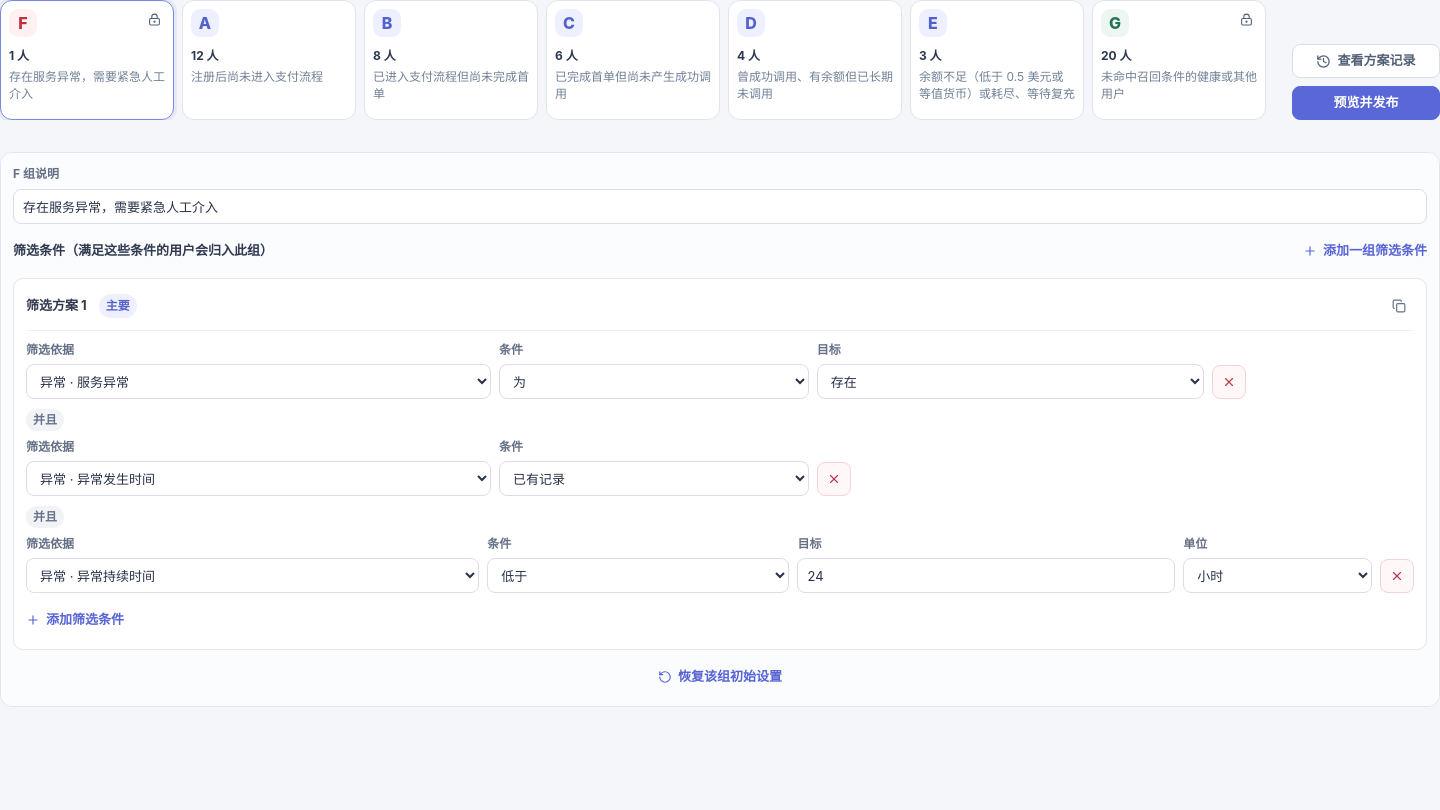
it: SegmentRuleEditor › previews the exact draft before publishing it
Click the button named "A12 人" at (269, 60), box [182, 0, 356, 120]
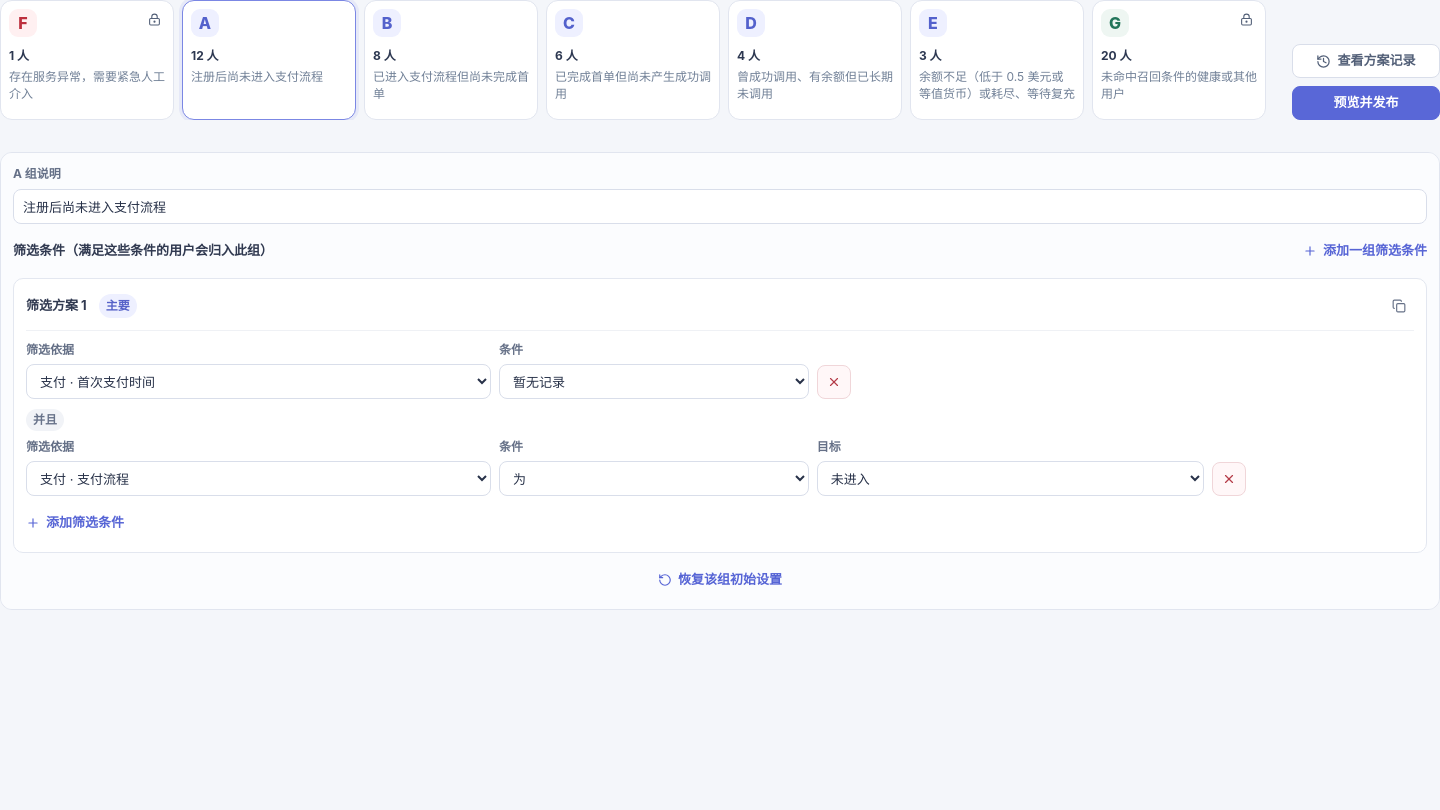
Replace the text in the field labelled "A 组说明" with "注册后尚未支付的重点用户" at (720, 206), box [13, 189, 1427, 224]
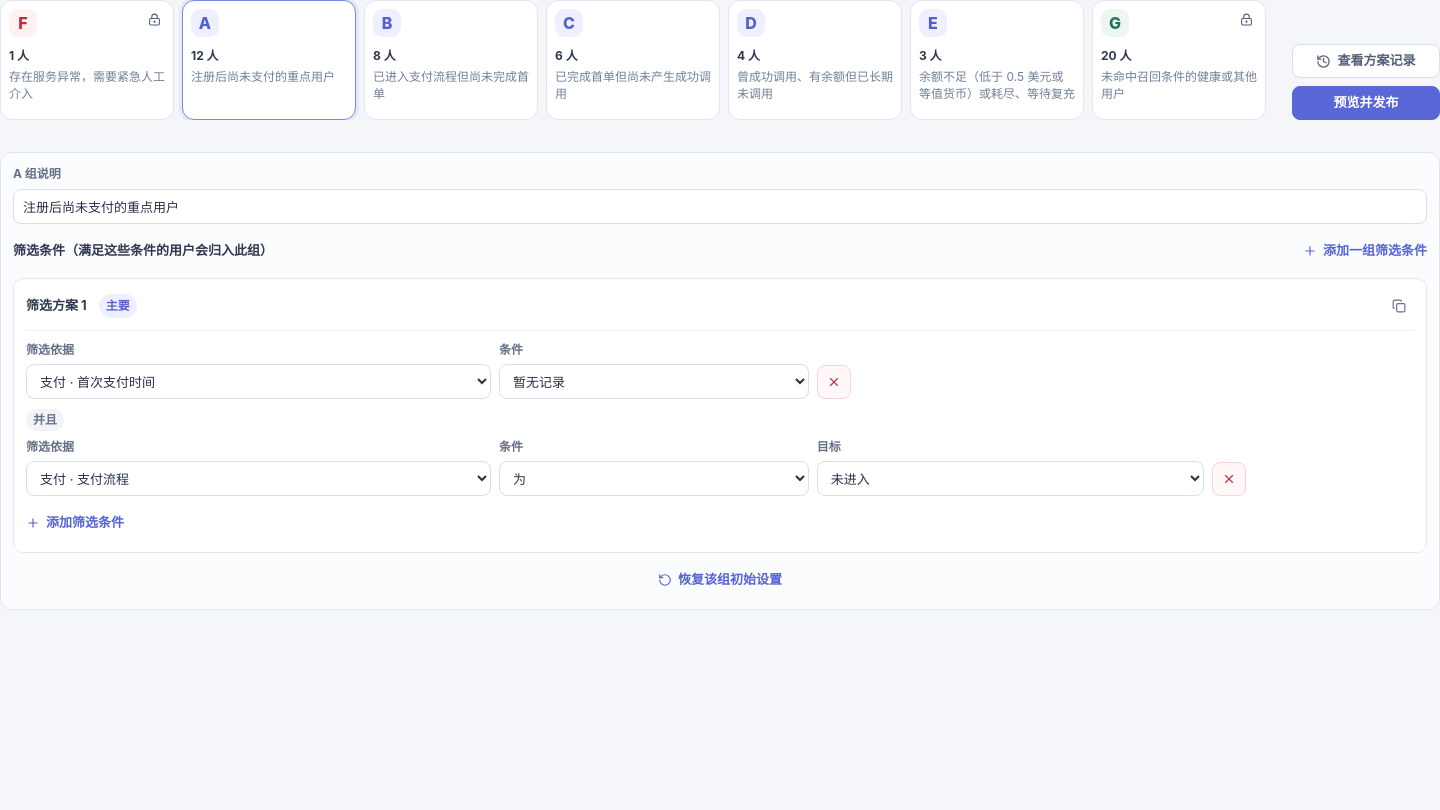
Click the button "预览并发布" at (1366, 103), box [1292, 86, 1439, 120]
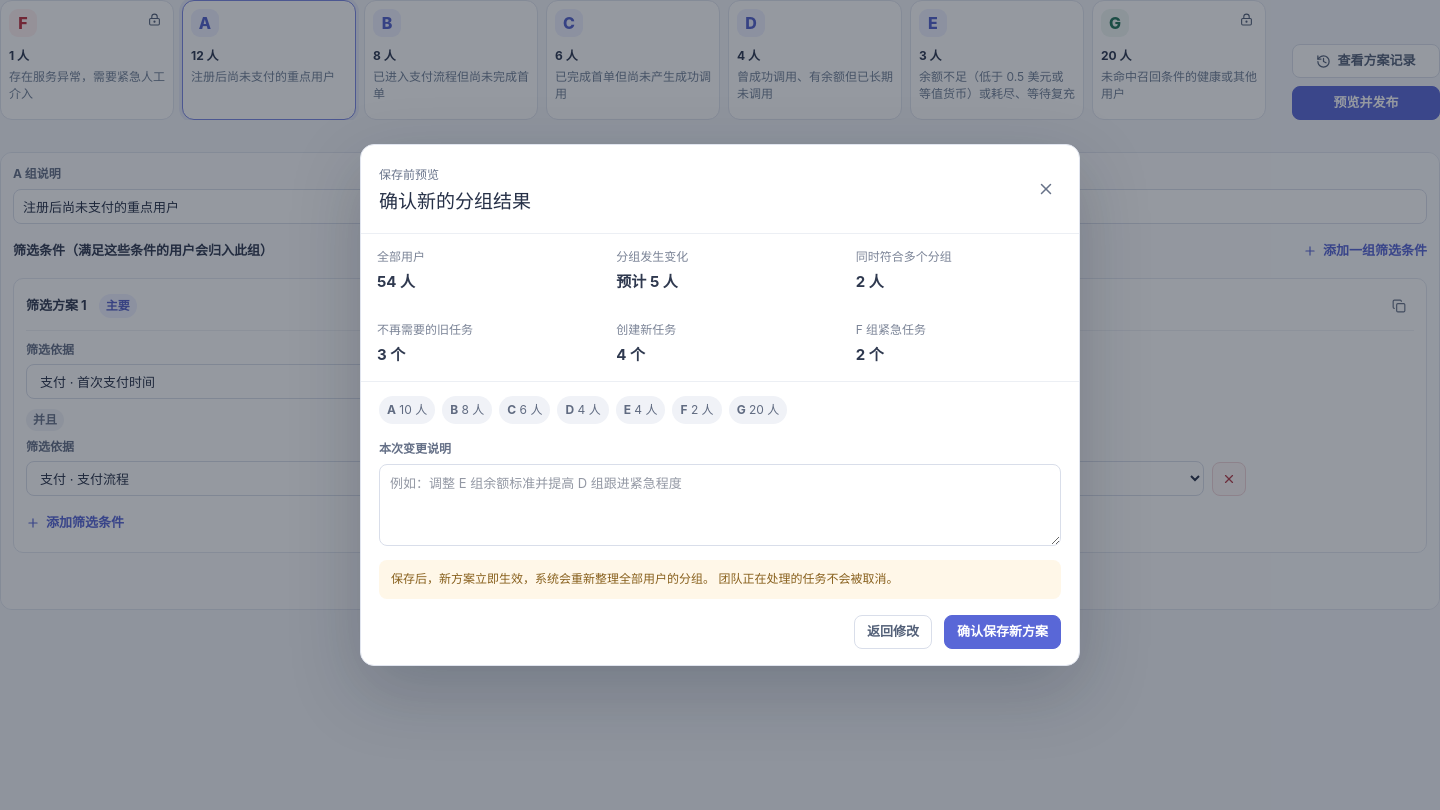
Check: the text "预计 5 人" is shown, box [616, 272, 678, 291]
Type "优化 A 组运营范围" into the text box labelled "本次变更说明" at (720, 505), box [379, 464, 1061, 546]
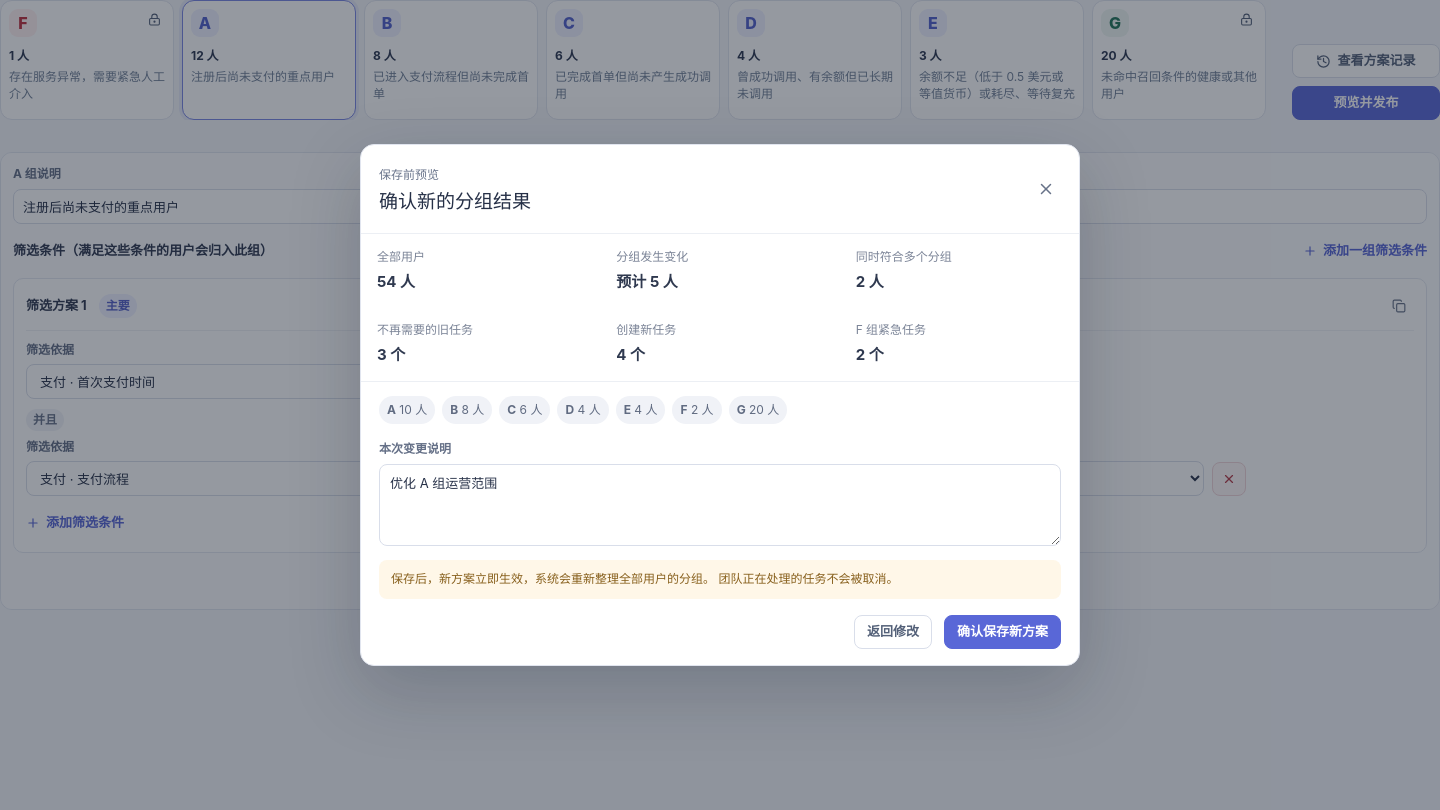
Click the button "确认保存新方案" at (1002, 632), box [944, 614, 1061, 648]
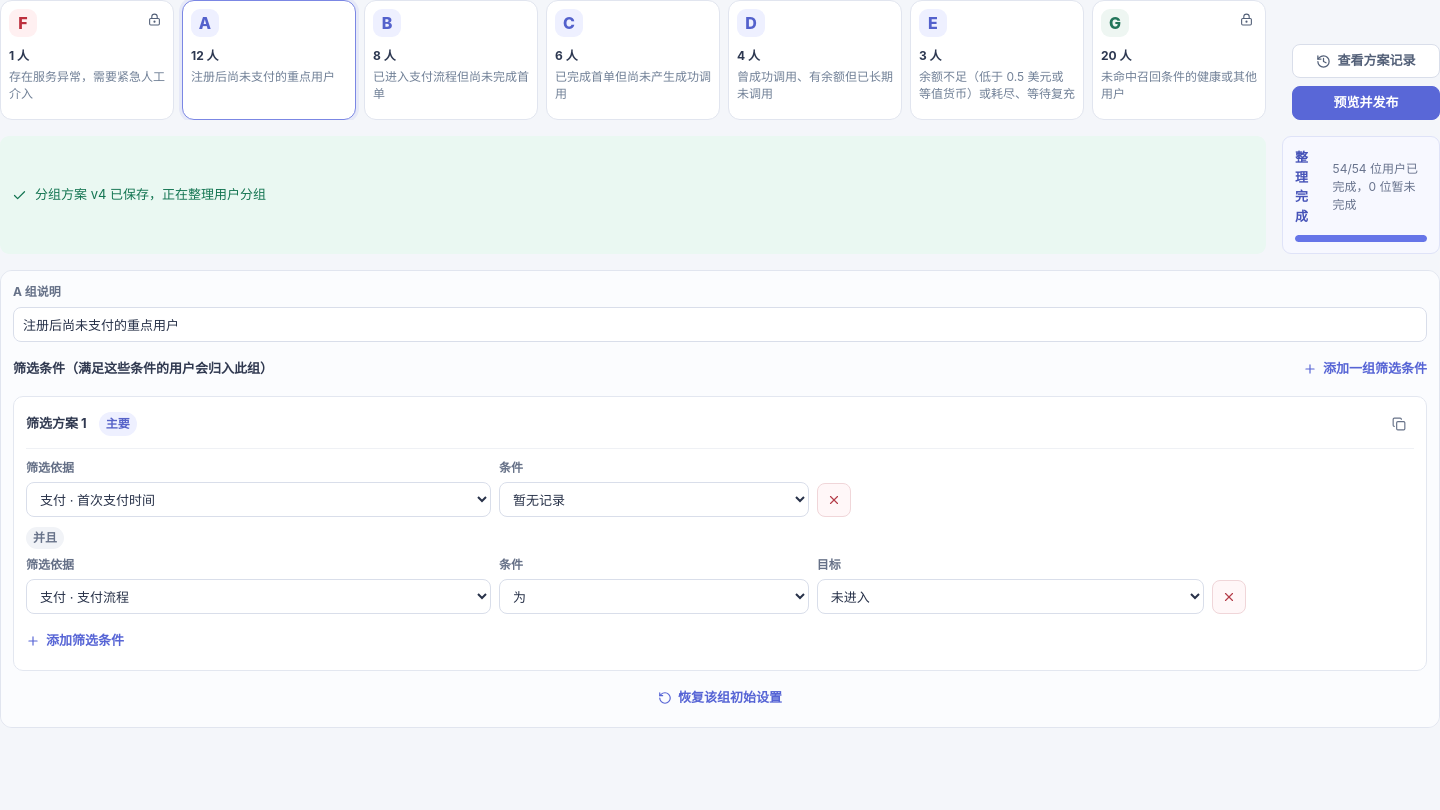
Check: the text "分组方案 v4 已保存，正在整理用户分组" is shown, box [0, 136, 1266, 254]
